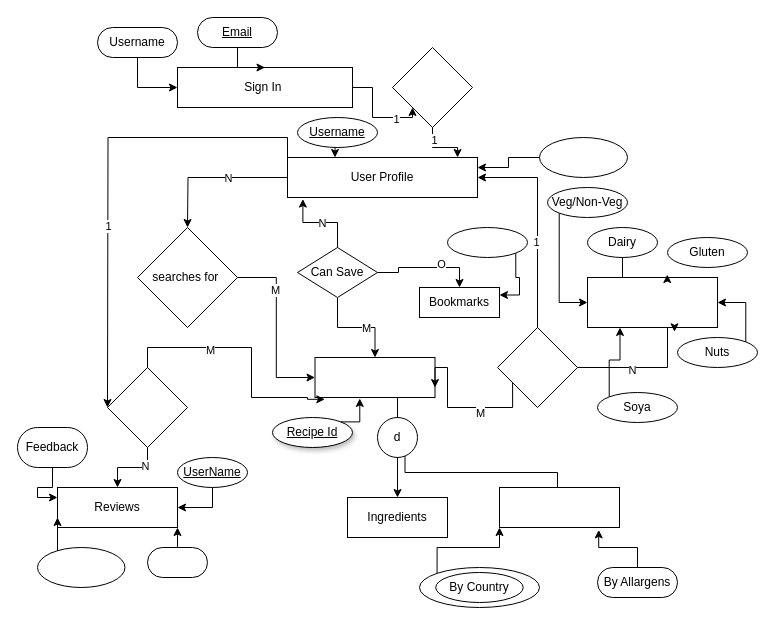
Image size: 775x625. Some labels were removed from this diagram. The shapes that lost their labels are listed below. From the top down, each one's centre as x and y in pixels, then its label:
At pixel 432 87: "Creates".
At pixel 583 157: "Cooking History".
At pixel 487 242: "Bookmarks no.".
At pixel 652 302: "FOOD Restrictions".
At pixel 374 377: "Recipe".
At pixel 537 367: "Can have".
At pixel 147 407: "Gives".
At pixel 559 507: "categories".
At pixel 80 567: "percentage (out of 10)".
At pixel 177 562: "Rating".
